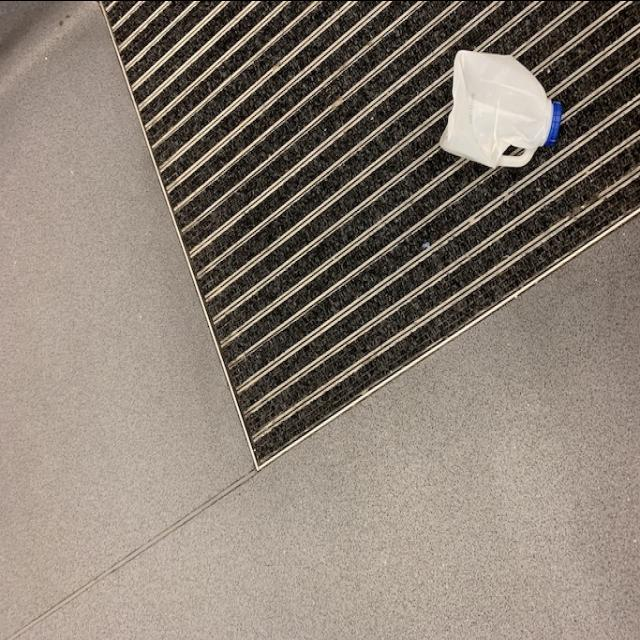HDPEM: (438, 45, 568, 173)
